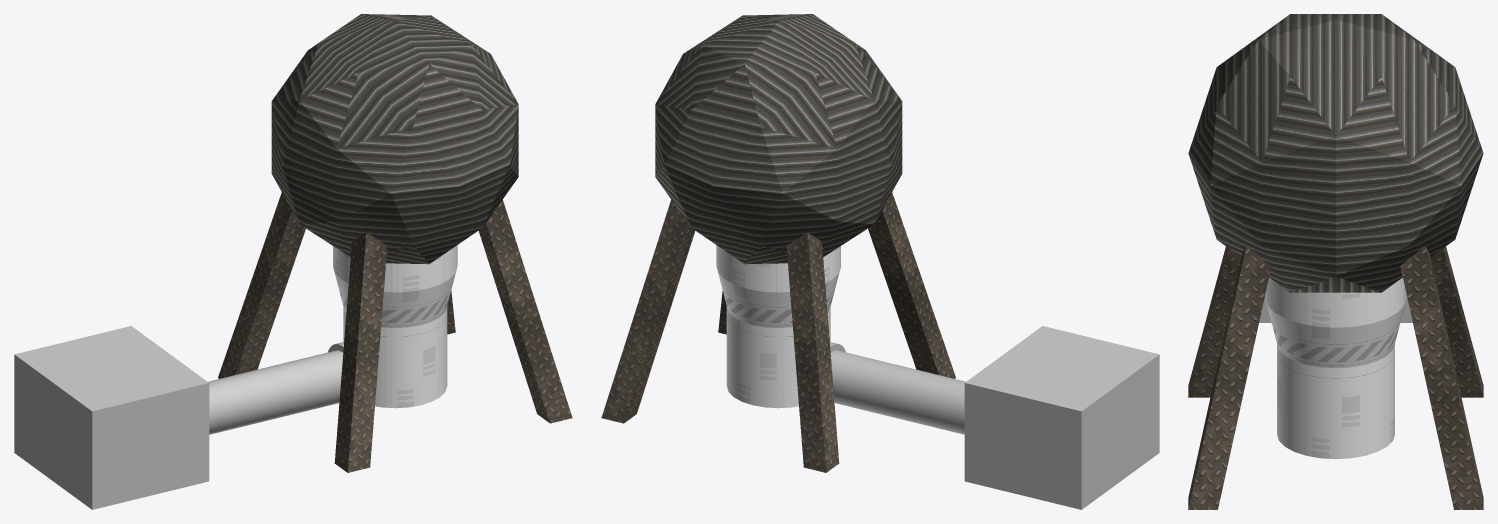
Rendered from ShieldGenerator.fbx.
The picture shows the model from 3 angles, left to right: view 1: azimuth 30°, elevation 25°; view 2: azimuth 150°, elevation 25°; view 3: azimuth 270°, elevation 25°; orthographic projection. The views are drawn at different scales.
Visible parts, largest first — view 1: icosphere, block, gear_slant, detail_chimneyShort, pipe_small; view 2: icosphere, block, gear_slant, detail_chimneyShort, pipe_small; view 3: icosphere, gear_slant, detail_chimneyShort, block.
Part boxes in pixels (x1=…): icosphere: x1=271, y1=14, x2=518, y2=264; block: x1=14, y1=326, x2=209, y2=509; gear_slant: x1=218, y1=192, x2=572, y2=472; detail_chimneyShort: x1=333, y1=245, x2=457, y2=408; pipe_small: x1=208, y1=342, x2=343, y2=434; icosphere: x1=655, y1=14, x2=902, y2=264; block: x1=964, y1=326, x2=1159, y2=509; gear_slant: x1=601, y1=192, x2=955, y2=472; detail_chimneyShort: x1=716, y1=245, x2=840, y2=408; pipe_small: x1=830, y1=342, x2=965, y2=434; icosphere: x1=1188, y1=14, x2=1483, y2=292; gear_slant: x1=1188, y1=245, x2=1483, y2=509; detail_chimneyShort: x1=1265, y1=277, x2=1406, y2=459; block: x1=1259, y1=297, x2=1412, y2=322.
Size of the model in its own units: 40.4 by 32 by 20.
